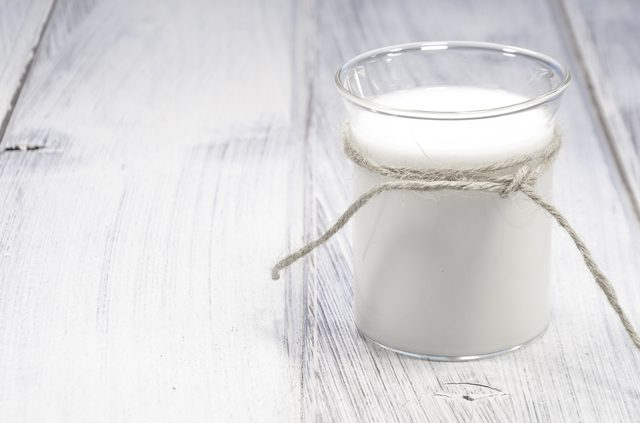glass of milk: (336, 47, 577, 366)
